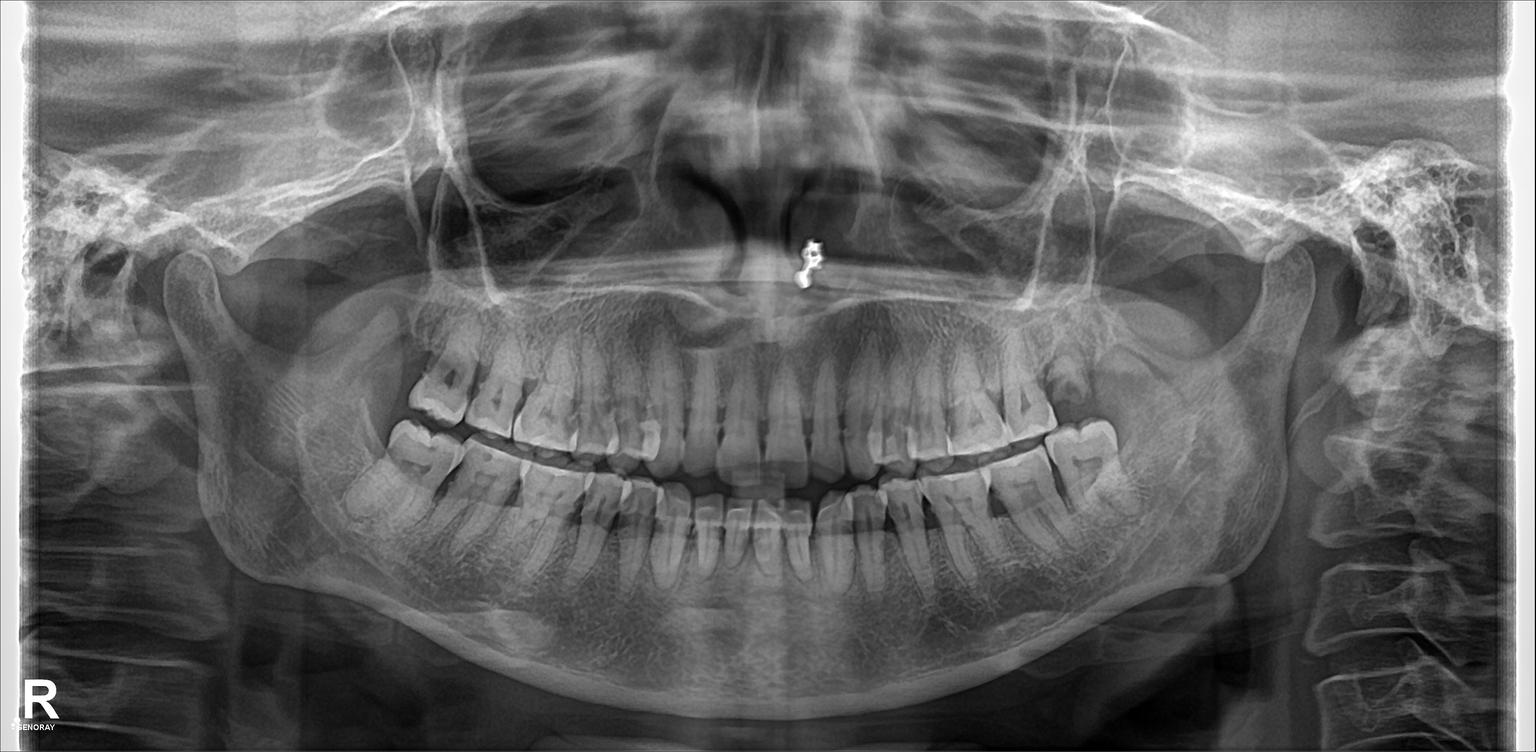Missing Tooth: (1102, 316, 1147, 423)
Tooth Fracture: (1043, 328, 1097, 423)
